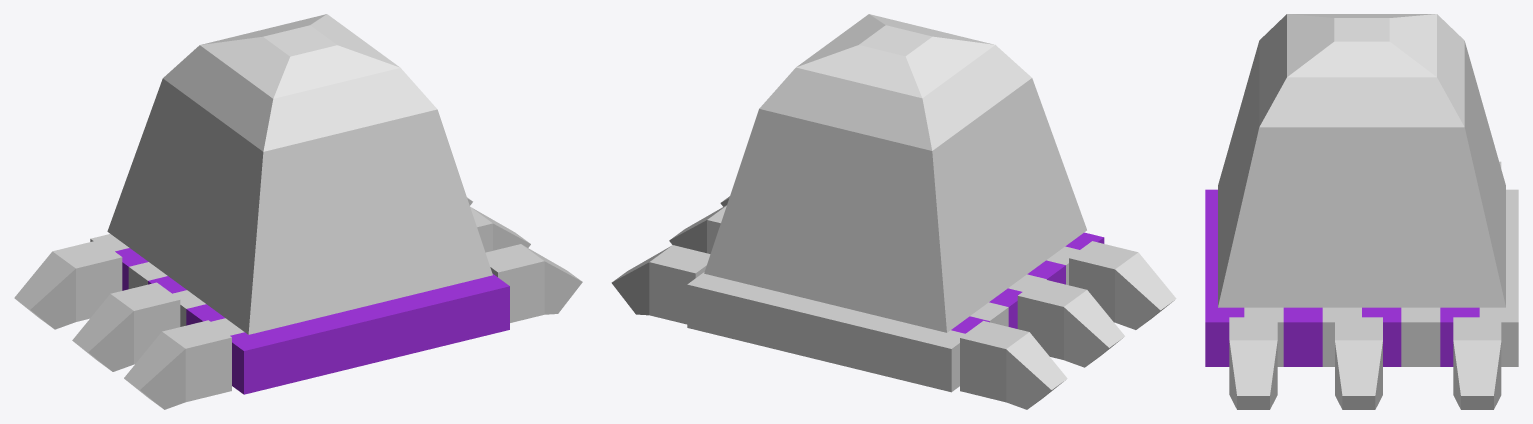
File: DynamicColorDrone.glb
The picture shows the model from 3 angles, left to right: view 1: azimuth 30°, elevation 25°; view 2: azimuth 150°, elevation 25°; view 3: azimuth 270°, elevation 25°; orthographic projection. The views are drawn at different scales.
Visible parts, largest first — view 1: Cube; view 2: Cube; view 3: Cube.
Part boxes in pixels (<box>): Cube: <box>14,14,582,409</box>; Cube: <box>611,14,1176,409</box>; Cube: <box>1205,14,1518,409</box>.
Size of the model in its own units: 1.97 by 1.17 by 1.18.
